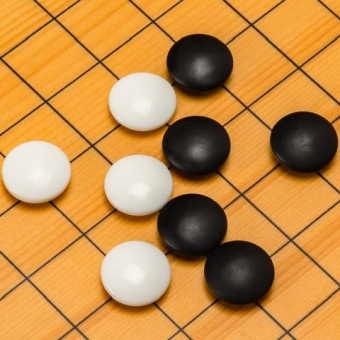black: (203, 240, 275, 306), (268, 110, 339, 175), (162, 115, 231, 179), (158, 193, 227, 256), (166, 33, 235, 95)
crossing: (238, 11, 267, 37), (289, 56, 316, 81), (42, 7, 68, 31), (17, 267, 41, 291), (35, 92, 57, 113), (282, 230, 302, 251), (89, 53, 111, 72), (276, 321, 299, 339), (76, 225, 95, 244), (238, 100, 258, 118)
white: (99, 240, 171, 307), (2, 140, 72, 204), (108, 71, 178, 133), (104, 154, 174, 216)
